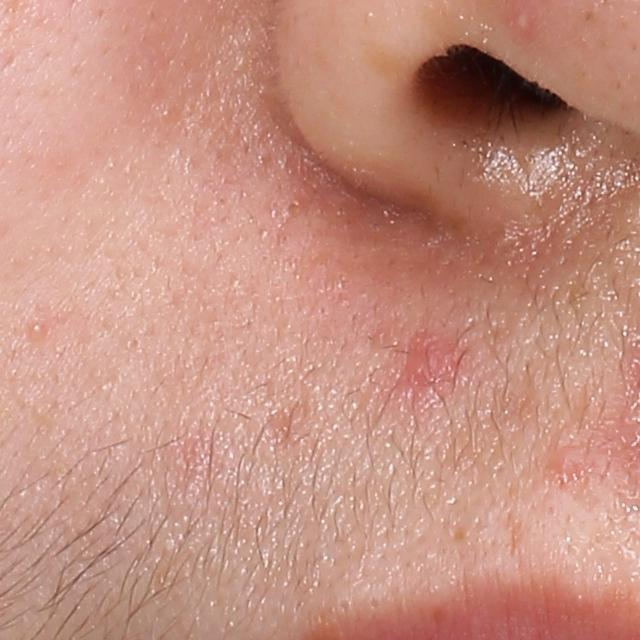comedo: (126, 334, 143, 349), (30, 324, 46, 339)
papule: (409, 343, 451, 386)
